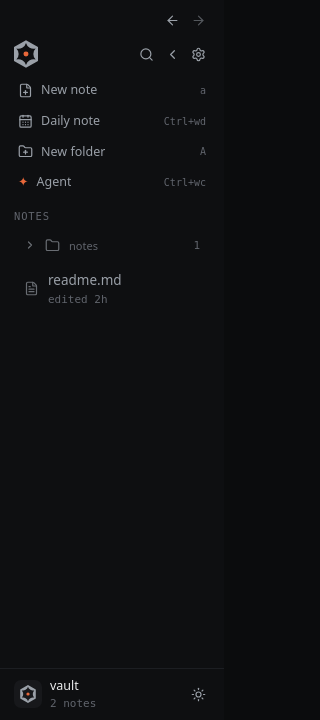
Test: Sidebar › navigation history controls › activates the previous buffer on Back and enables Forward
Click the button named "Back" at [172, 20], box x1=160 y1=8 x2=184 y2=32
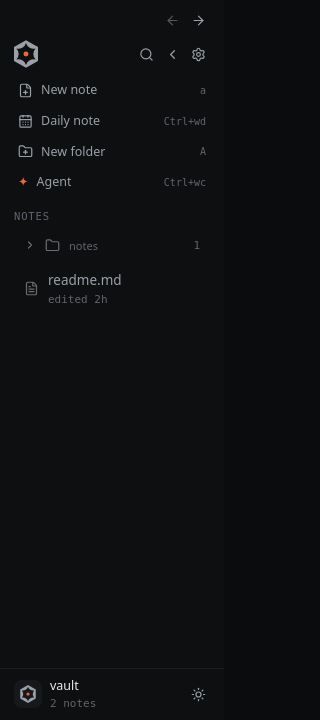
Expected: the button named "Forward" is enabled, x1=186 y1=8 x2=210 y2=32
Expected: the button named "Back" is disabled, x1=160 y1=8 x2=184 y2=32
